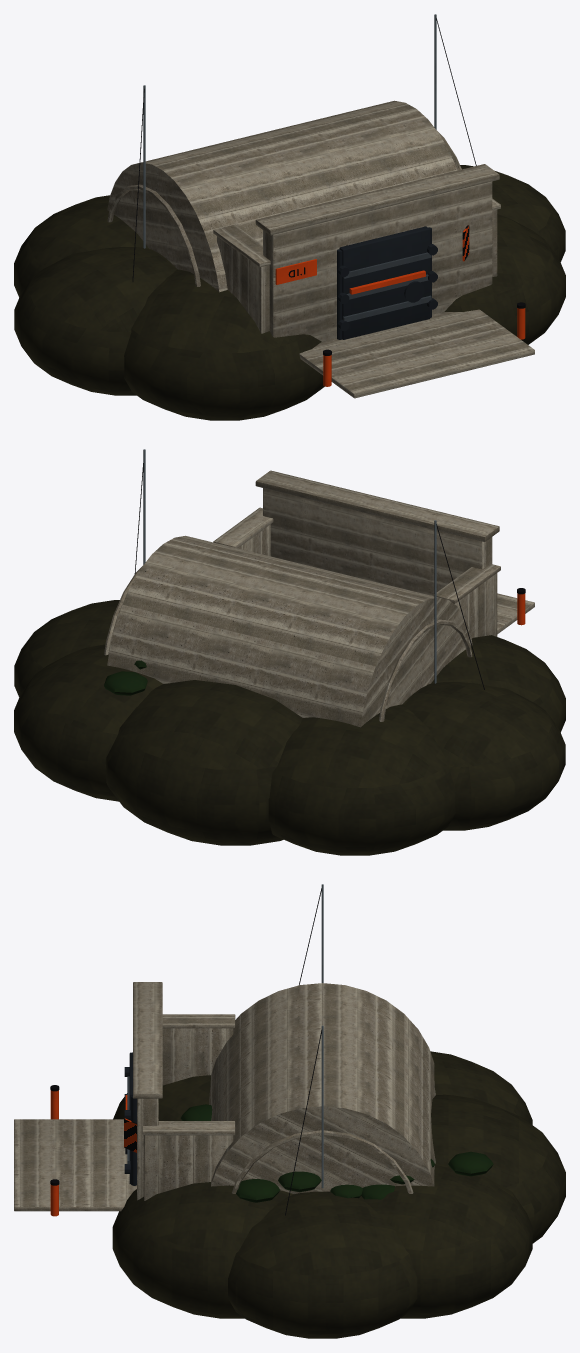
Rendered from fac_storage.glb.
3 views of the same model, one above another, from view 1: azimuth 30°, elevation 25°; view 2: azimuth 150°, elevation 25°; view 3: azimuth 270°, elevation 25° (orthographic).
Visible parts, largest first — view 1: FAC_STORAGE; view 2: FAC_STORAGE; view 3: FAC_STORAGE.
Part boxes in pixels (x1,y1,x2,y2): FAC_STORAGE: (14, 14, 565, 420); FAC_STORAGE: (14, 449, 565, 855); FAC_STORAGE: (14, 884, 565, 1338).
Bounding box in the file's own units: 16.01 × 8.87 × 14.84.
10 materials, 10 textured.
